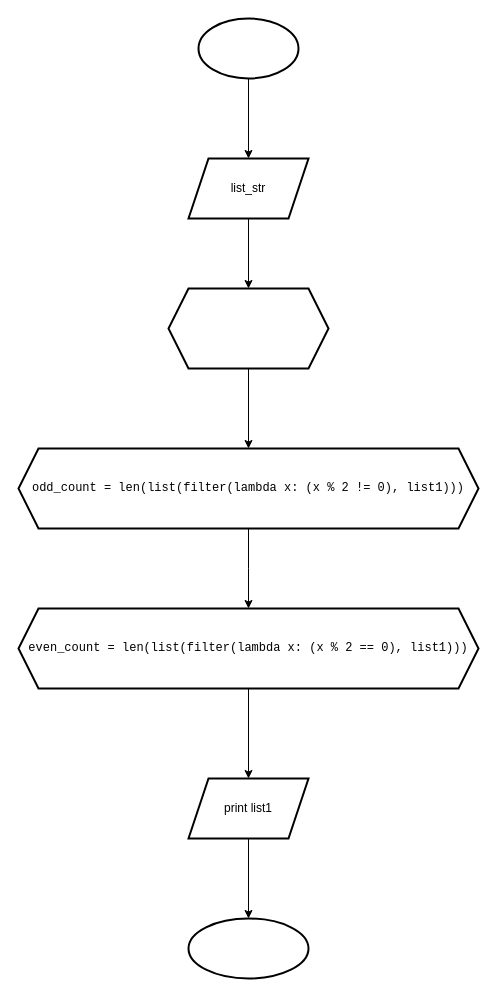
Image size: 496x996. Some labels were removed from this diagram. Here are the shapes that lost their labels. From the top down, the centre of each, then its label:
At pixel 248 328: "list1 = [ int (x) for x in str (list_str)]".
At pixel 248 948: "end".
